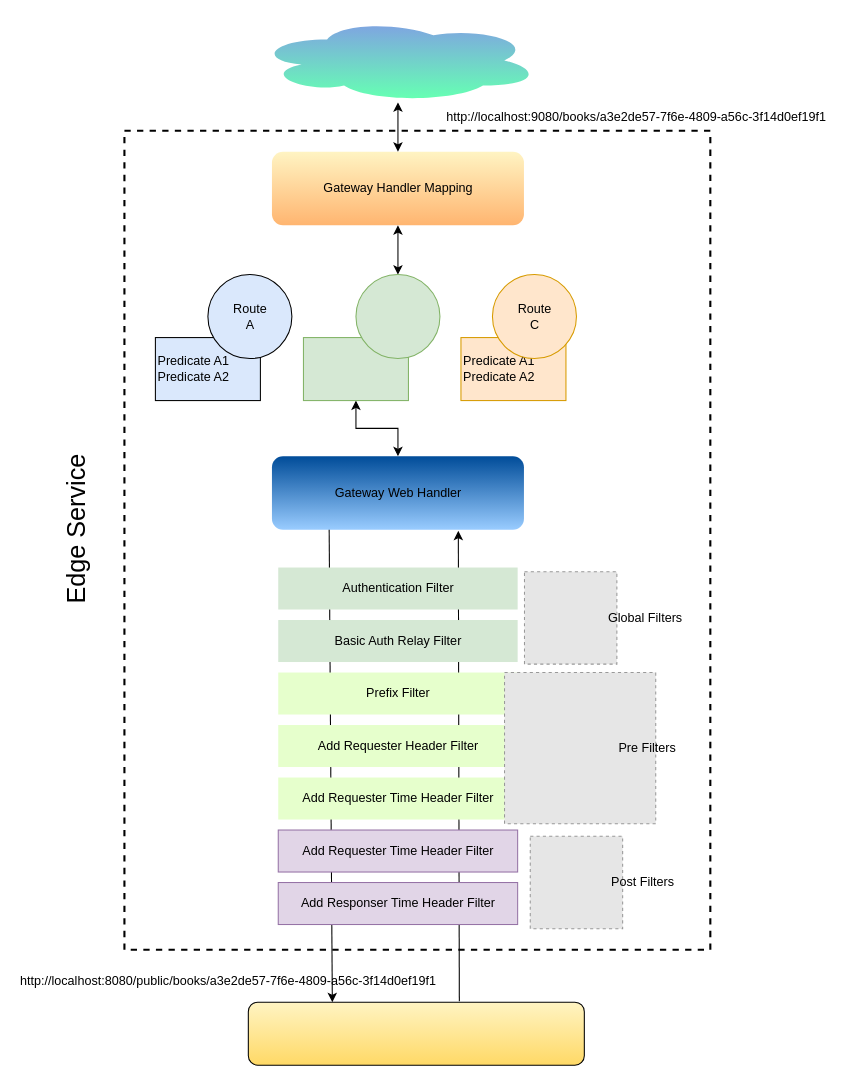
Image size: 861x1084. Some labels were removed from this diagram. Grey dashed boxes stand in for pictures. The centre of each missing label's shape, as x and y in pixels:
"Book Service" belongs at point (415, 1033).
"Client" belongs at point (397, 60).
"Paths=/books/**" belongs at point (355, 369).
"Route book-id" belongs at point (397, 316).
